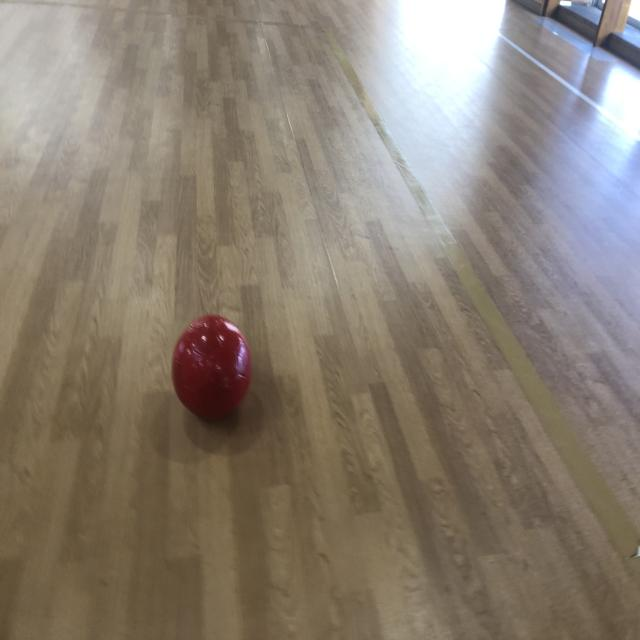red_ball: (170, 314, 252, 424)
